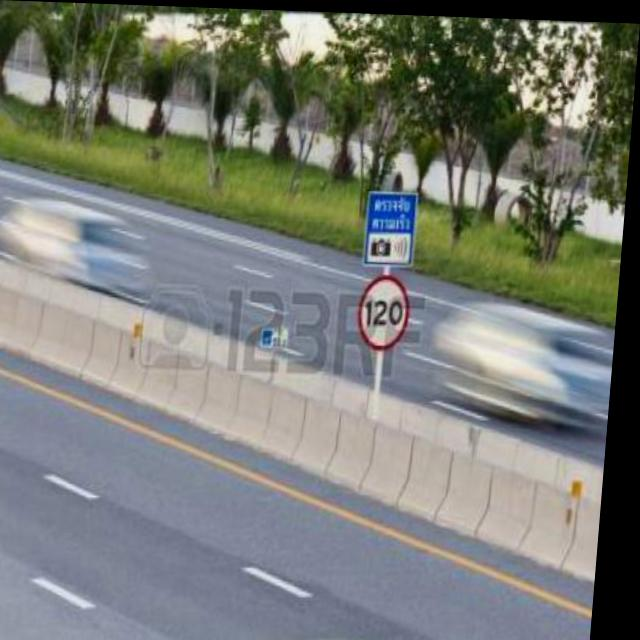limit120: (353, 273, 426, 353)
